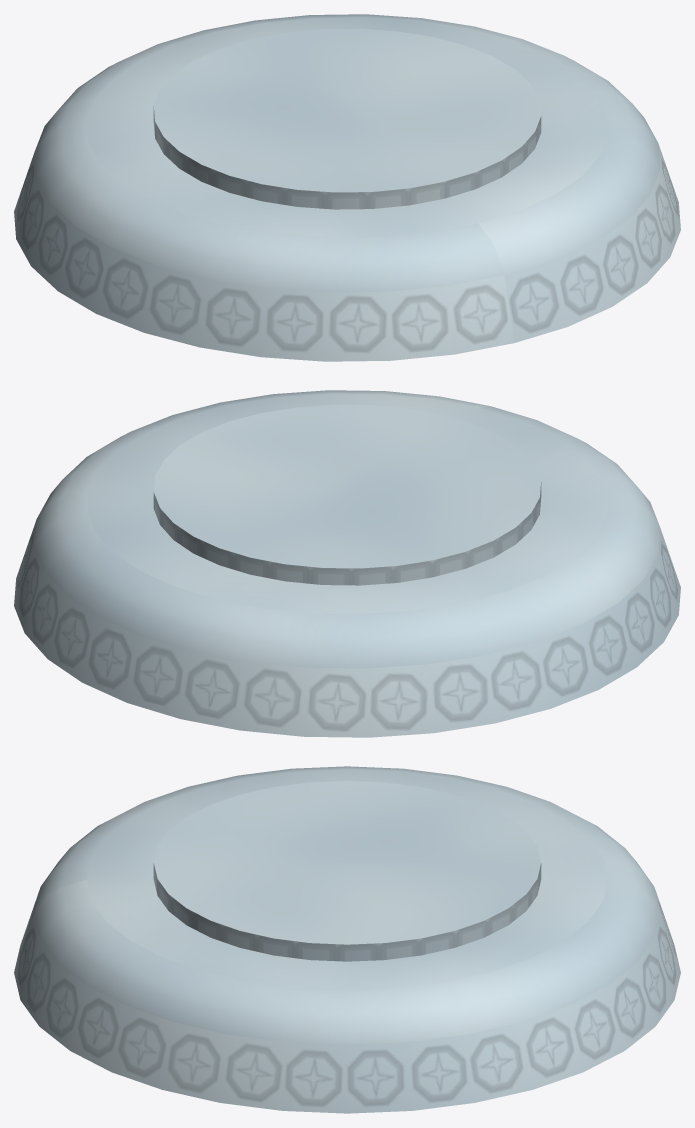
Rendered from Portal1.fbx.
3 renders of one model, top to bottom at view 1: azimuth 30°, elevation 25°; view 2: azimuth 150°, elevation 25°; view 3: azimuth 270°, elevation 25°, orthographic.
Parts seen in each view (by area): view 1: Circle; view 2: Circle; view 3: Circle.
Part boxes in pixels (<box>): Circle: <box>14,14,680,361</box>; Circle: <box>14,390,680,737</box>; Circle: <box>14,766,680,1113</box>.
Bounding box in the file's own units: 400 × 72.65 × 400.
